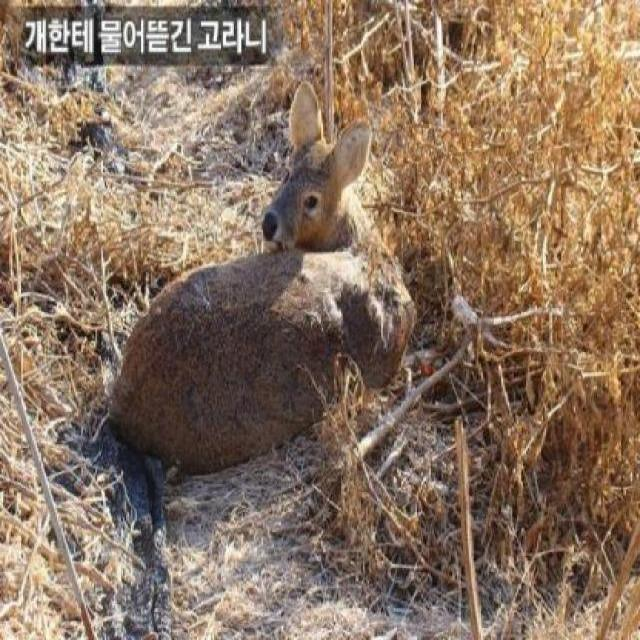deer: (106, 83, 417, 485)
